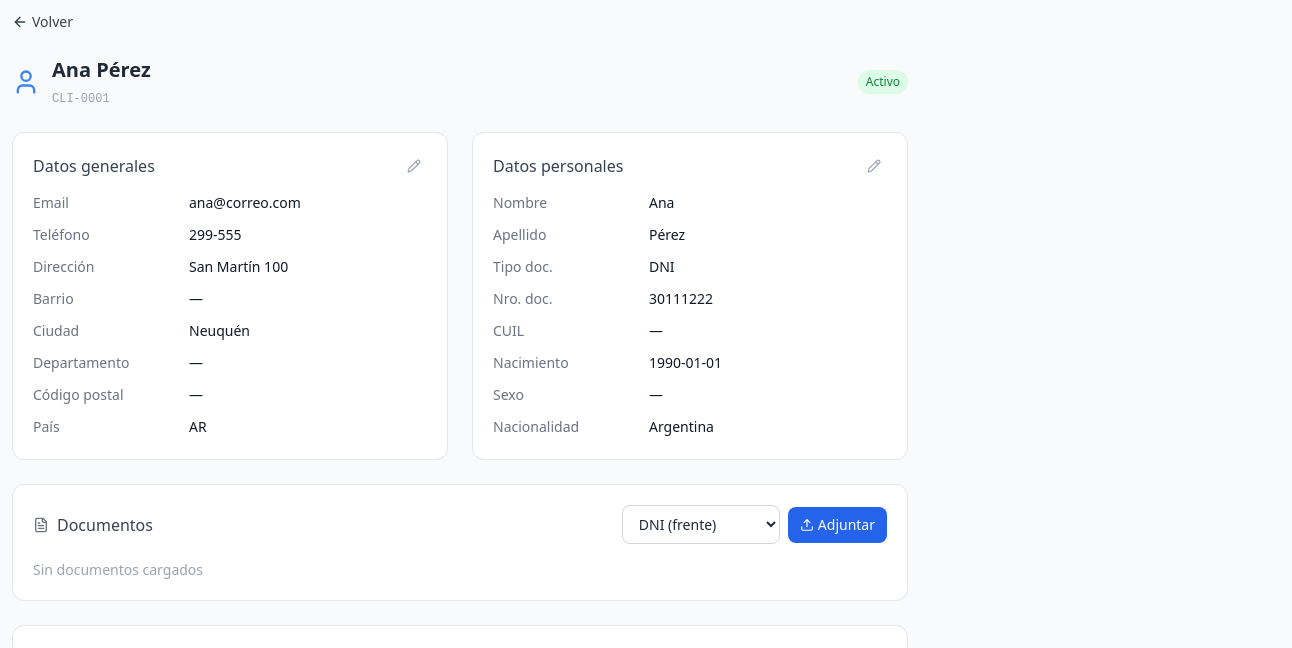
Test: ClienteDetailPage — edición de datos › muestra un mensaje genérico si el error no trae detalle
Expected: the heading "Ana Pérez" is shown, [52, 56, 151, 84]
Step 1. Click the button without text in the row of "Datos personales" → (874, 166), box [861, 153, 887, 179]
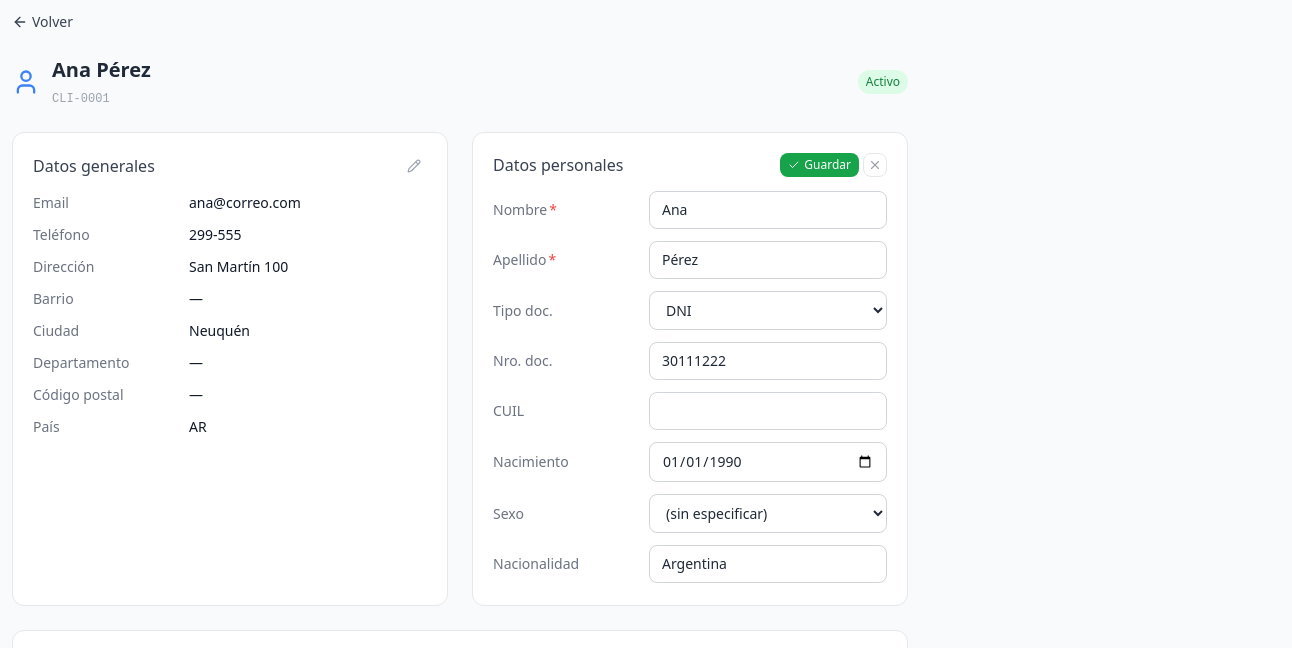
Step 2. Click the button "Guardar" → (820, 165), box [780, 153, 859, 177]
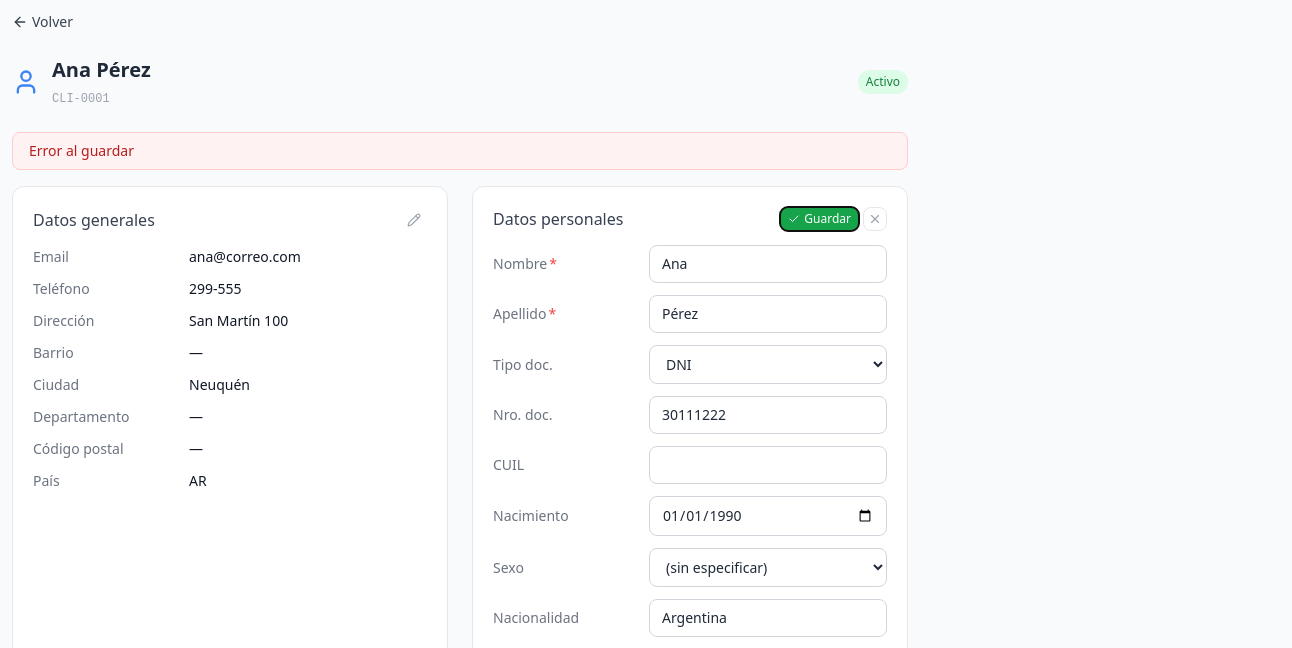
Now the text "Error al guardar" is shown, box [12, 132, 908, 170]
